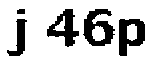4: (46, 5, 80, 48)
6: (82, 6, 116, 49)
j: (3, 8, 32, 60)
p: (115, 17, 149, 60)
